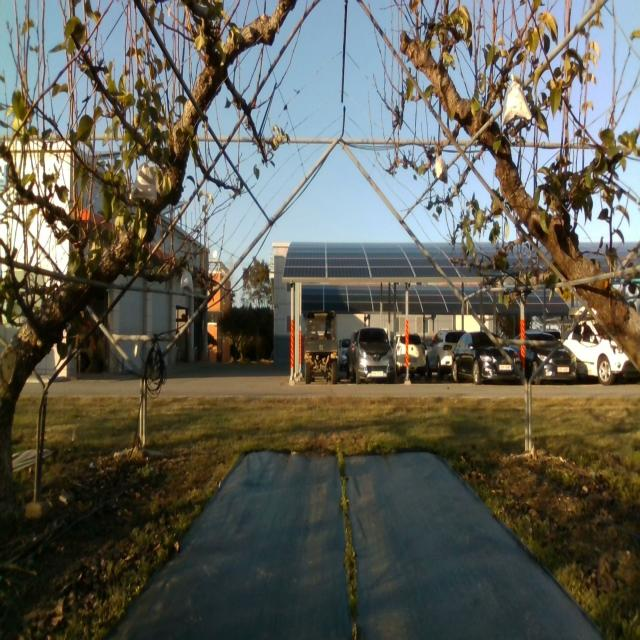pearbags: (502, 74, 532, 126), (129, 155, 157, 201), (434, 156, 448, 183), (180, 265, 193, 293)
